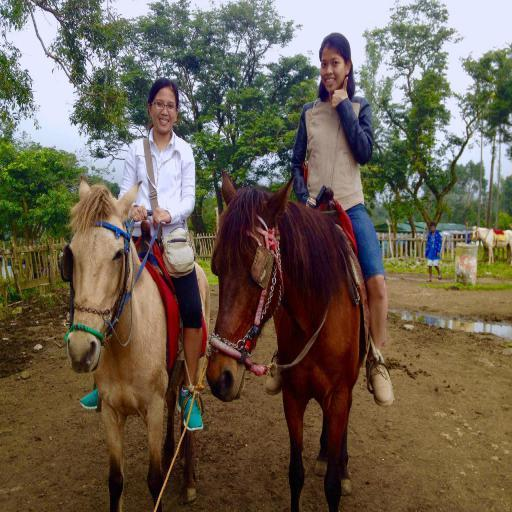horse: (204, 166, 372, 512), (65, 175, 211, 512)
